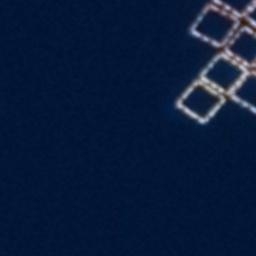square_solid: (184, 1, 244, 56), (192, 48, 250, 101), (170, 77, 229, 128), (217, 22, 256, 70), (223, 67, 256, 115), (211, 1, 256, 14), (238, 2, 256, 29)
